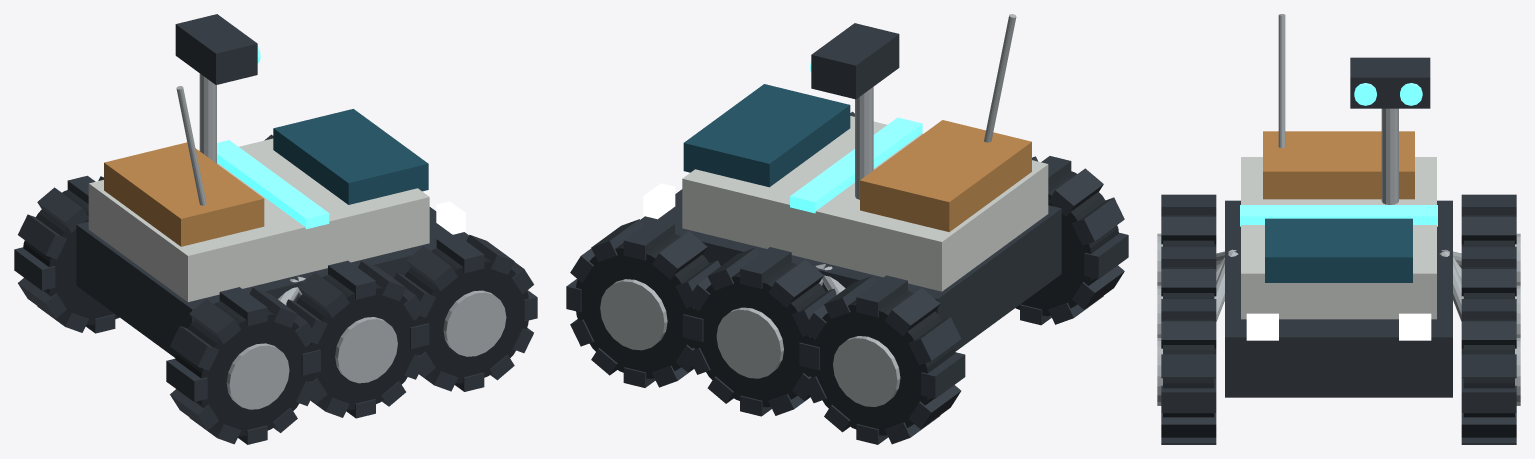
The model's file is rover-blue.glb.
The picture shows the model from 3 angles, left to right: view 1: azimuth 30°, elevation 25°; view 2: azimuth 150°, elevation 25°; view 3: azimuth 270°, elevation 25°; orthographic projection. The views are drawn at different scales.
Visible parts, largest first — view 1: Science deck, Battery module, Rover chassis, Sensor windshield, Wheel, Wheel.004, Wheel.002, Stereo camera, Color stripe, Wheel hub, Wheel hub.004, Wheel hub.002 (+22 smaller); view 2: Science deck, Battery module, Rover chassis, Sensor windshield, Wheel.001, Wheel.005, Wheel.003, Stereo camera, Wheel, Wheel hub.005, Wheel hub.003, Wheel hub.001 (+22 smaller); view 3: Rover chassis, Science deck, Sensor windshield, Battery module, Stereo camera, Color stripe, Mast, Wheel.004, Wheel.005, Tread block.001, Tread block.013, Tread block.051 (+28 smaller).
Boxes of the visible parts, <box> form: Science deck: <box>88,138,429,301</box>; Battery module: <box>104,142,264,246</box>; Rover chassis: <box>76,207,468,357</box>; Sensor windshield: <box>273,109,428,204</box>; Wheel: <box>175,301,311,436</box>; Wheel.004: <box>405,248,528,383</box>; Wheel.002: <box>296,274,420,409</box>; Stereo camera: <box>175,14,257,84</box>; Color stripe: <box>217,140,329,229</box>; Wheel hub: <box>226,343,289,409</box>; Wheel hub.004: <box>443,290,506,356</box>; Wheel hub.002: <box>335,317,397,383</box>; Science deck: <box>682,116,1048,291</box>; Battery module: <box>860,120,1031,232</box>; Rover chassis: <box>640,189,1061,351</box>; Sensor windshield: <box>683,84,850,187</box>; Wheel.001: <box>809,290,955,435</box>; Wheel.005: <box>576,233,709,378</box>; Wheel.003: <box>692,262,825,407</box>; Stereo camera: <box>811,23,899,99</box>; Wheel: <box>1015,171,1118,316</box>; Wheel hub.005: <box>600,279,667,350</box>; Wheel hub.003: <box>716,307,783,378</box>; Wheel hub.001: <box>833,336,900,406</box>; Rover chassis: <box>1225,200,1452,397</box>; Science deck: <box>1241,157,1436,319</box>; Sensor windshield: <box>1265,218,1412,282</box>; Battery module: <box>1263,131,1414,199</box>; Stereo camera: <box>1350,57,1430,108</box>; Color stripe: <box>1240,205,1437,226</box>; Mast: <box>1381,108,1398,204</box>; Wheel.004: <box>1163,319,1214,417</box>; Wheel.005: <box>1463,319,1514,417</box>; Tread block.001: <box>1161,216,1216,244</box>; Tread block.013: <box>1461,216,1516,244</box>; Tread block.051: <box>1161,385,1216,412</box>.
Bounding box in the file's own units: 2.06 × 1.8 × 1.91.
